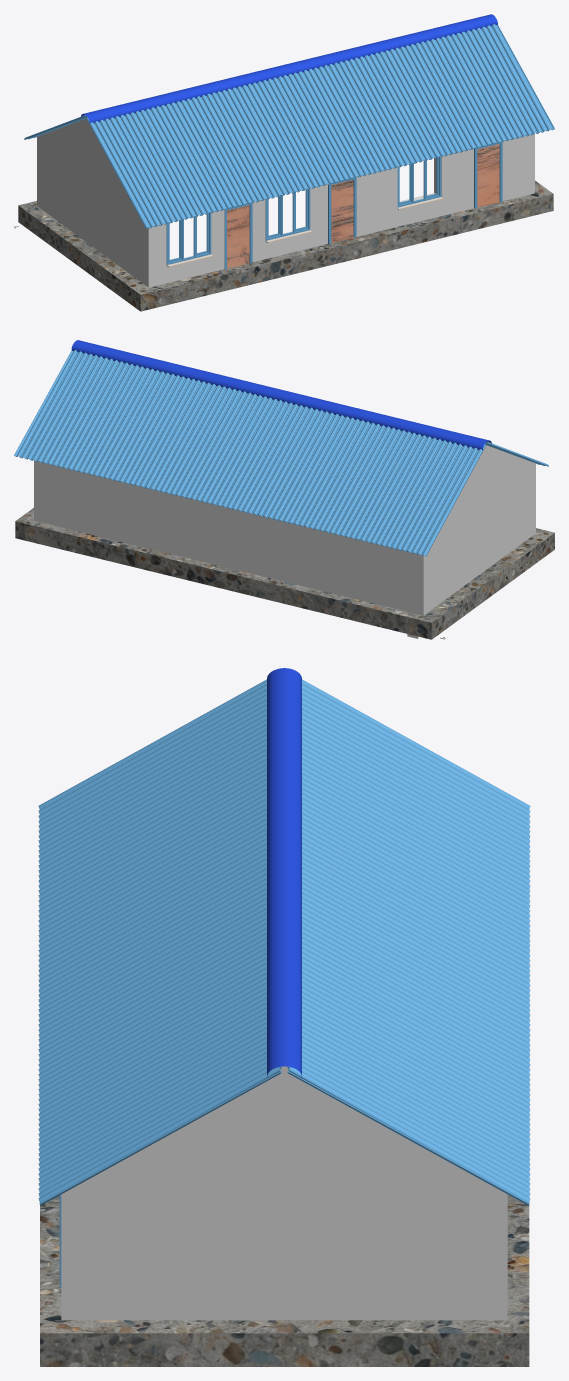
File: House 2.fbx
The picture shows the model from 3 angles, top to bottom: view 1: azimuth 30°, elevation 25°; view 2: azimuth 150°, elevation 25°; view 3: azimuth 270°, elevation 25°; orthographic projection. The views are drawn at different scales.
Visible parts, largest first — view 1: Roof, Walls, Slab, Cylinder; view 2: Roof, Walls, Slab, Cylinder; view 3: Roof, Walls, Slab, Cylinder.
Boxes of the visible parts, x1,y1,x2,y2 form: Roof: (24, 24, 554, 269); Walls: (37, 118, 534, 287); Slab: (18, 144, 553, 311); Cylinder: (81, 14, 497, 123); Roof: (14, 350, 548, 556); Walls: (34, 445, 535, 615); Slab: (15, 508, 554, 639); Cylinder: (71, 340, 491, 450); Roof: (38, 679, 530, 1287); Walls: (61, 1066, 507, 1320); Slab: (40, 1013, 529, 1366); Cylinder: (267, 668, 301, 1078).
Size of the model in its own units: 1533 by 531 by 771.
6 materials, 2 textured.
